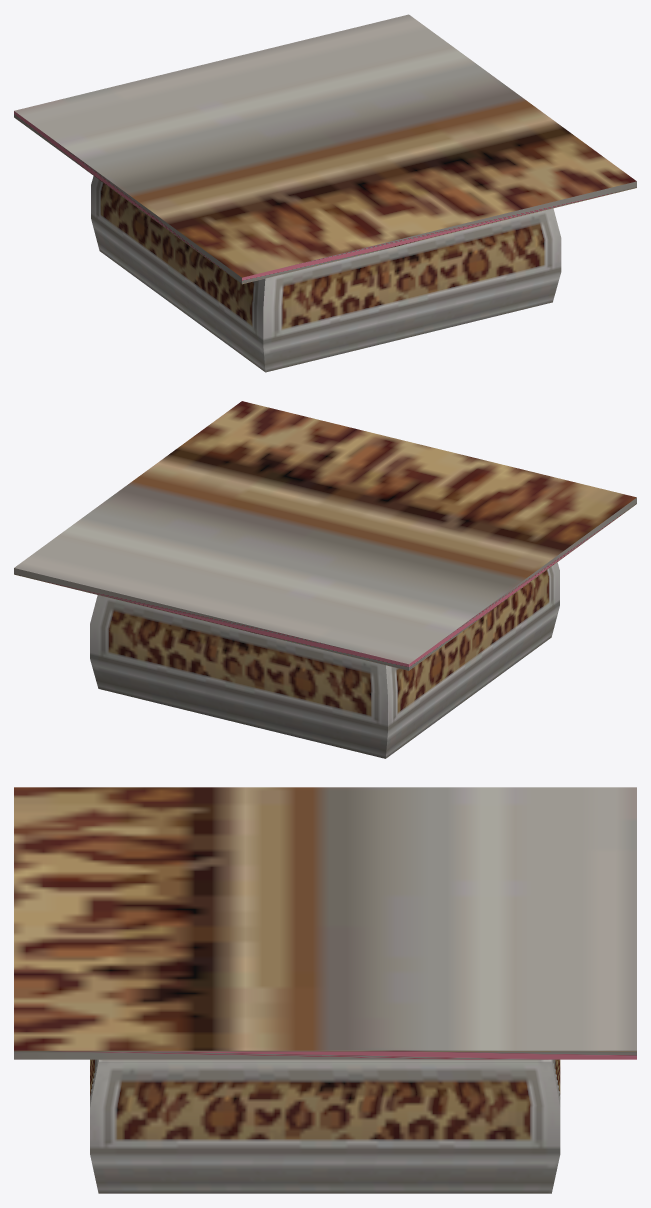
Rendered from furni_0200097.FBX.
3 views of the same model, one above another, from view 1: azimuth 30°, elevation 25°; view 2: azimuth 150°, elevation 25°; view 3: azimuth 270°, elevation 25° (orthographic). The views are drawn at different scales.
Parts seen in each view (by area): view 1: furni_0200097; view 2: furni_0200097; view 3: furni_0200097.
Boxes of the visible parts, <box> form: furni_0200097: <box>14,14,636,372</box>; furni_0200097: <box>14,401,636,758</box>; furni_0200097: <box>14,787,636,1193</box>.
Size of the model in its own units: 160 by 50.61 by 160.
